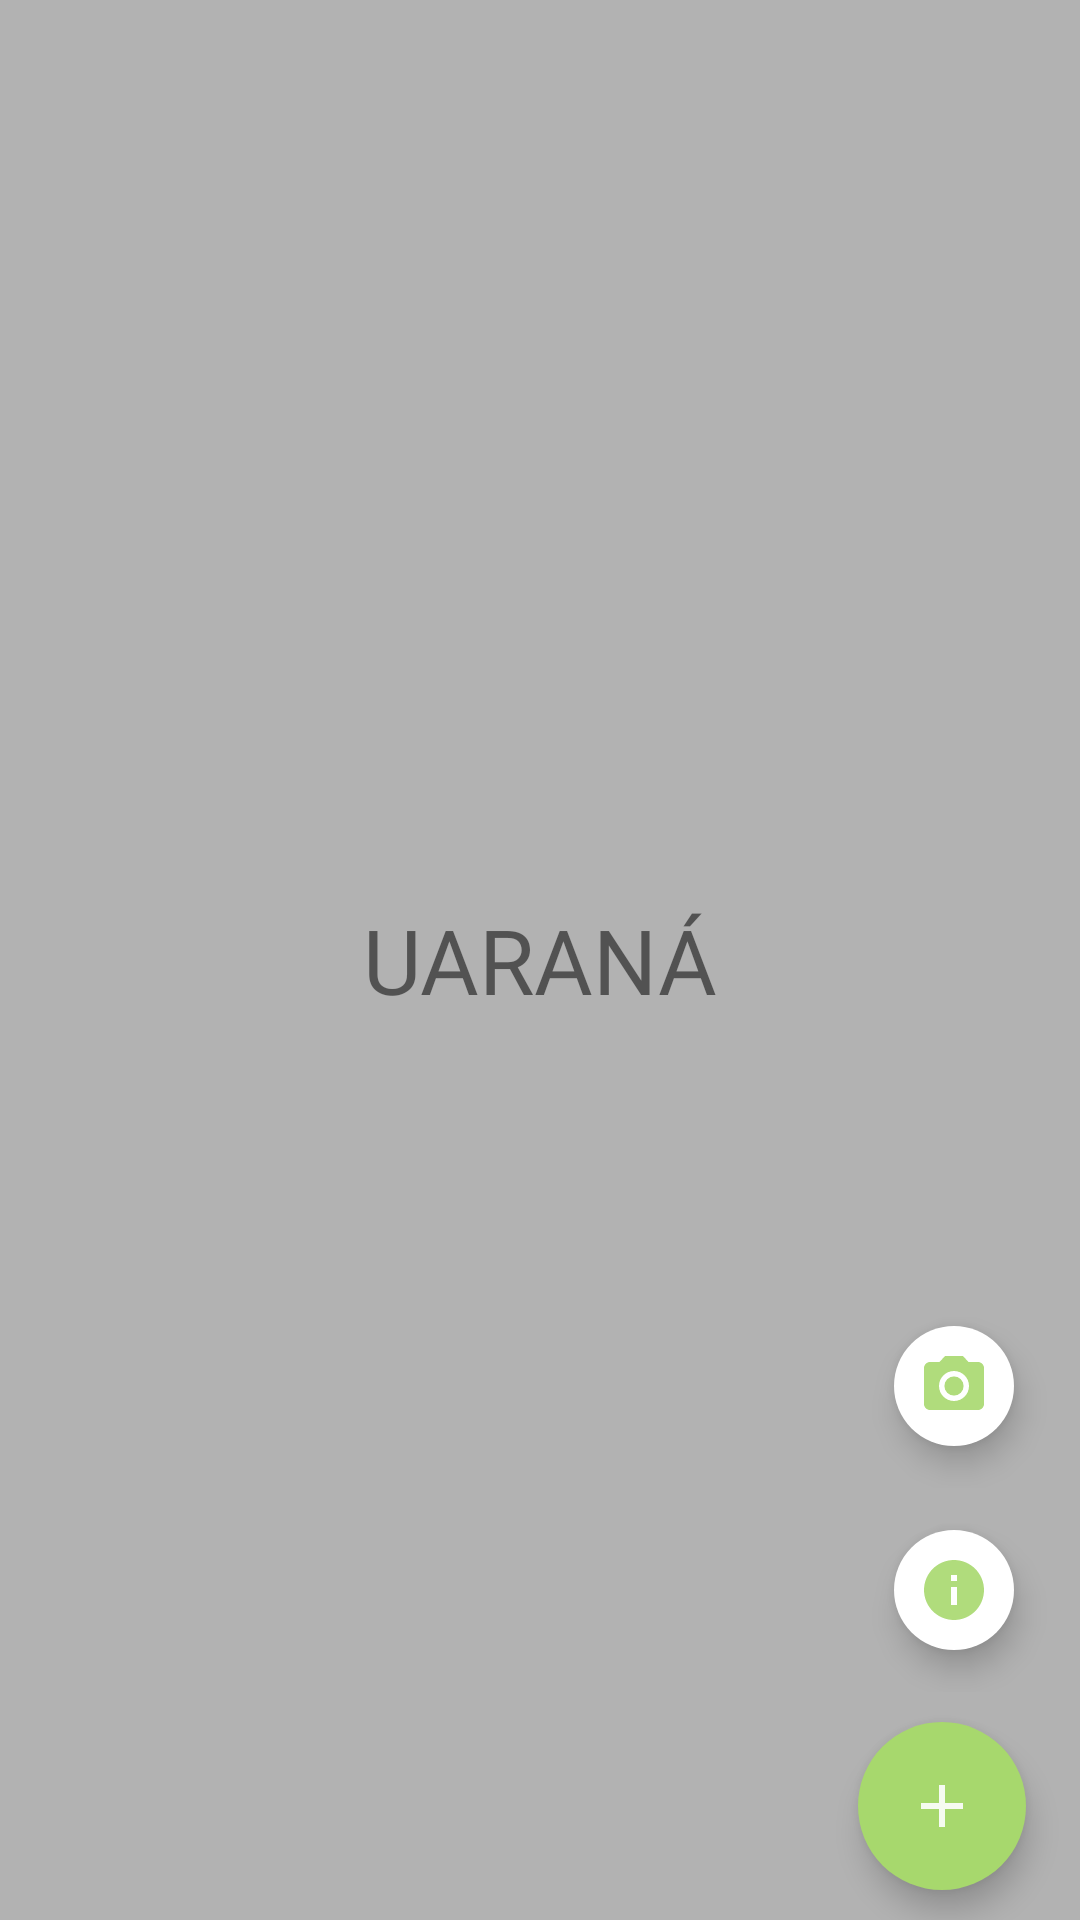

Point at icon controls on the screen. Image size 1080 x 1920, points as point (x, y).
add: point (942, 1806)
info: point (954, 1593)
photo cam: point (954, 1388)
